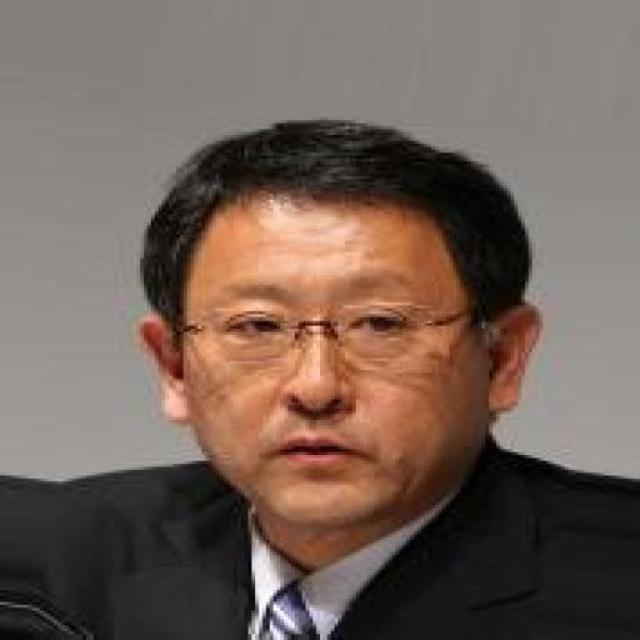bareface: (174, 214, 456, 503)
